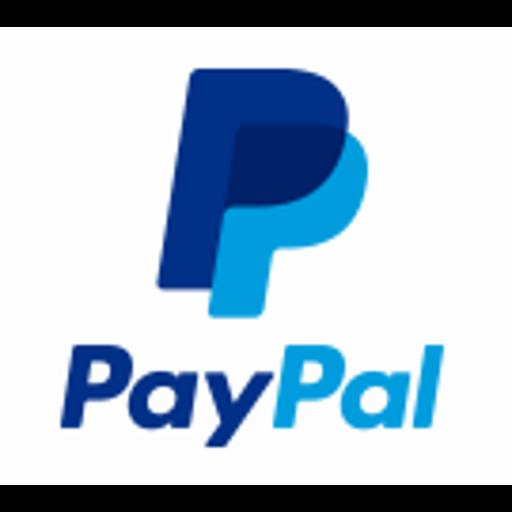PayPal: (0, 27, 512, 485)
